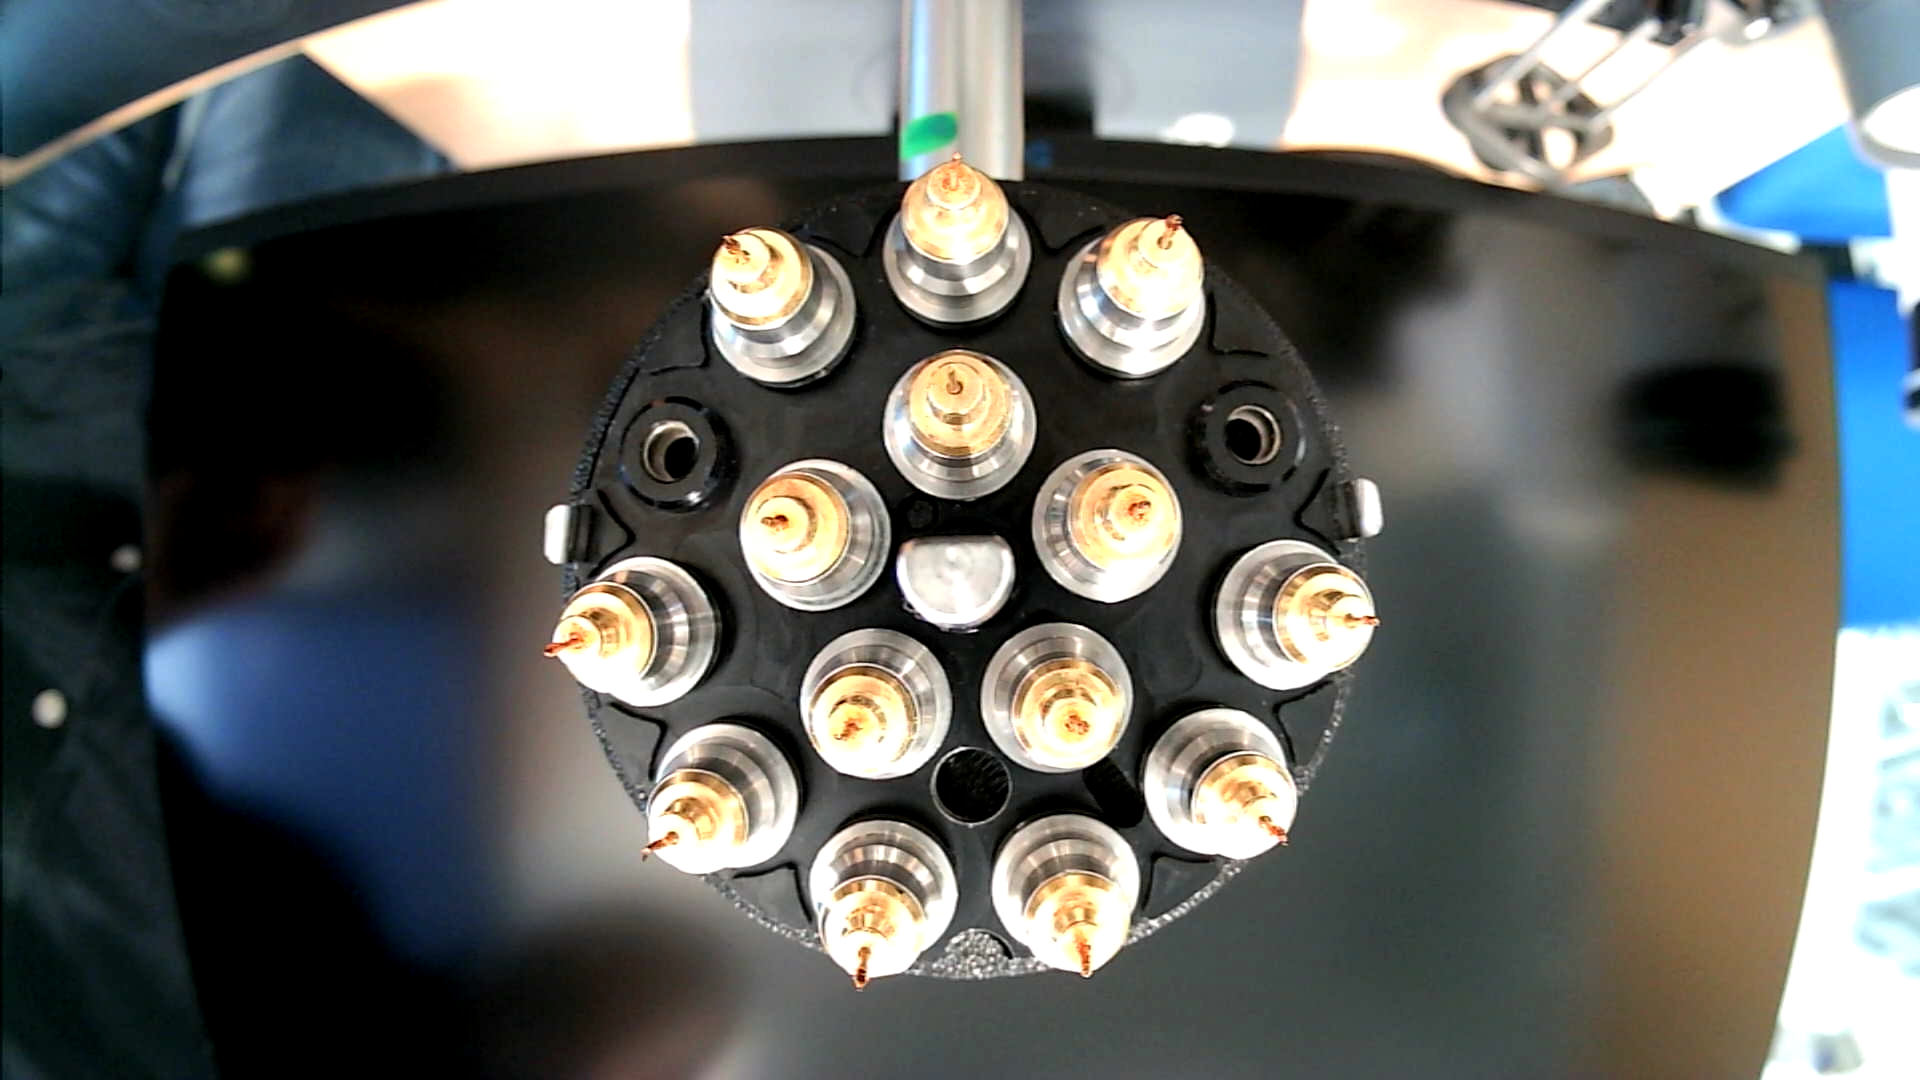empty: (612, 392, 742, 521), (1185, 375, 1312, 502)
hole: (924, 742, 1015, 827)
pin: (808, 815, 965, 997), (542, 555, 727, 709), (637, 716, 803, 878), (1209, 535, 1381, 692), (878, 152, 1031, 327), (704, 222, 860, 392), (992, 808, 1143, 982), (1139, 703, 1302, 862), (1056, 211, 1207, 382), (880, 345, 1040, 502), (794, 625, 953, 782), (978, 618, 1135, 775), (1030, 446, 1184, 605), (738, 451, 893, 611)
rod: (891, 533, 1021, 637)
